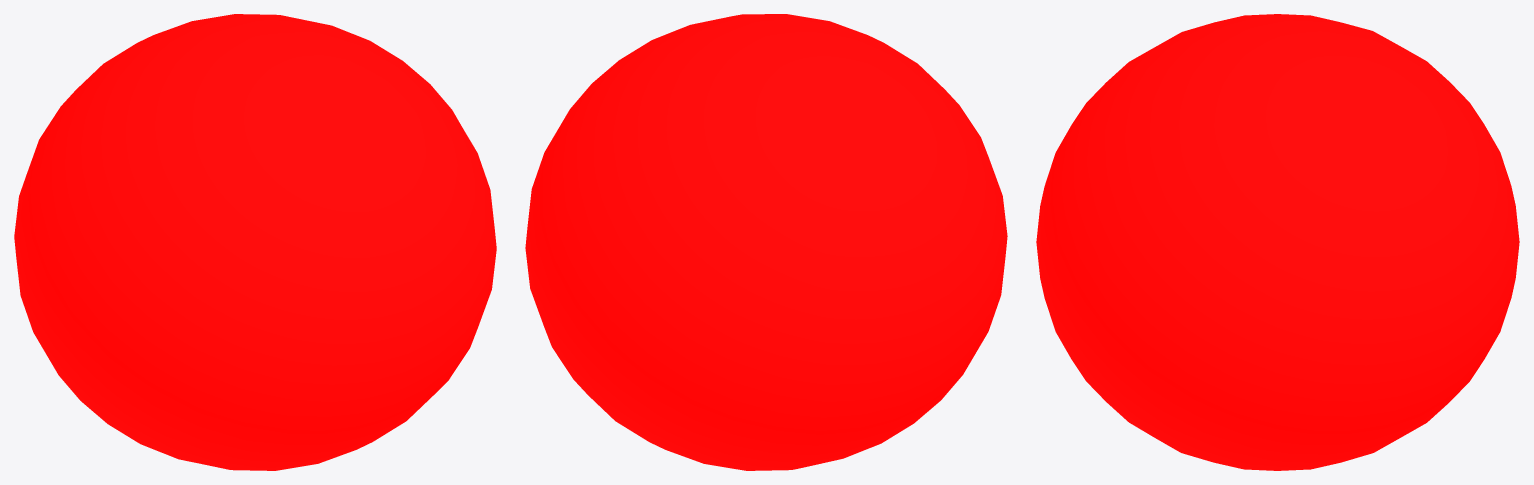
File: Larva (4).fbx
3 renders of one model, left to right at view 1: azimuth 30°, elevation 25°; view 2: azimuth 150°, elevation 25°; view 3: azimuth 270°, elevation 25°, orthographic.
Visible parts, largest first — view 1: Sphere; view 2: Sphere; view 3: Sphere.
Part boxes in pixels (x1,y1,x2,y2): Sphere: (14, 14, 496, 470); Sphere: (525, 14, 1007, 470); Sphere: (1036, 14, 1519, 470).
Size of the model in its own units: 0.1965 by 0.1846 by 0.1965.
